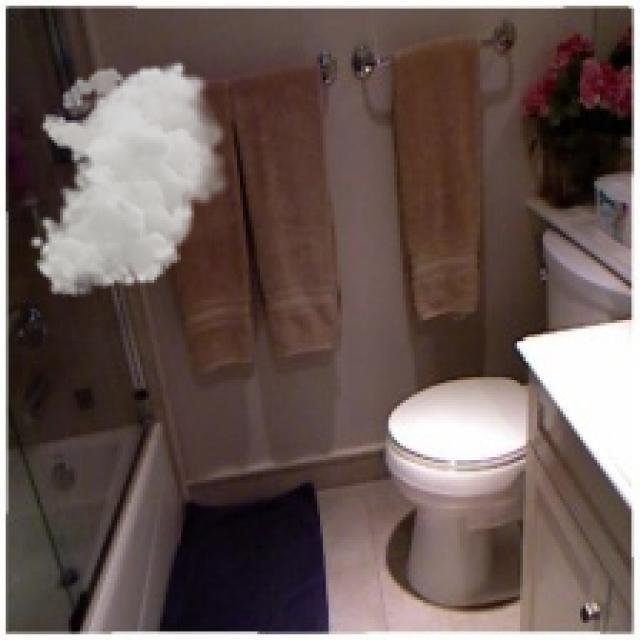Smoke: (28, 60, 235, 297)
